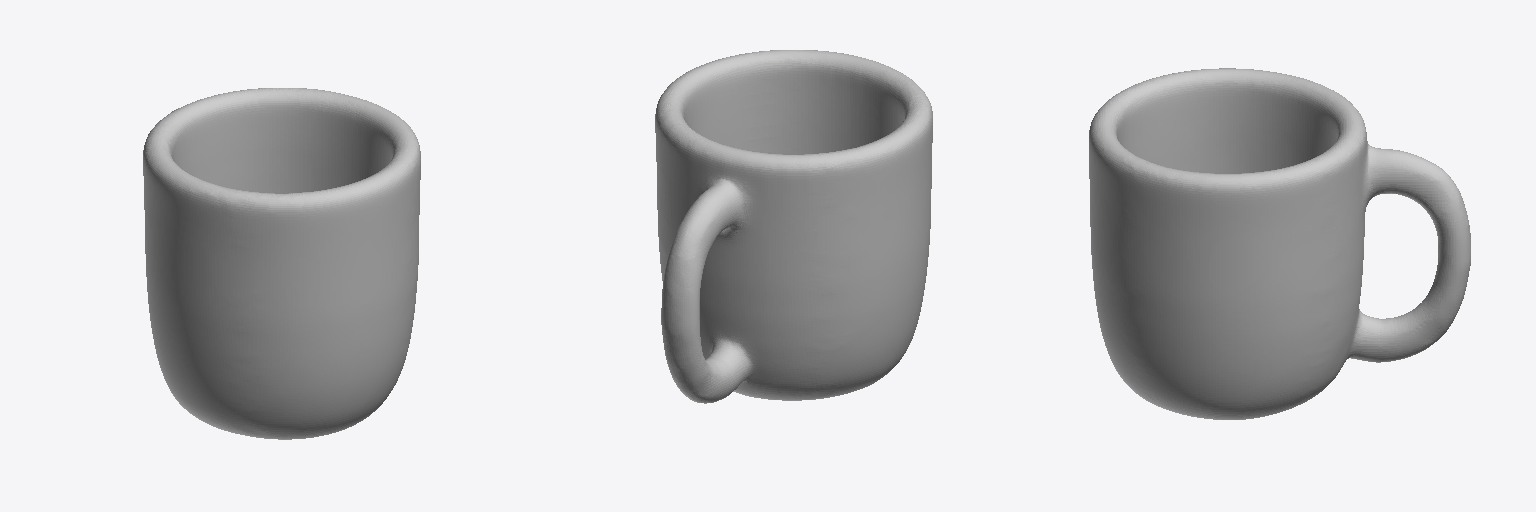
File: CupsyCupZOBJ.obj
3 renders of one model, left to right at view 1: azimuth 30°, elevation 25°; view 2: azimuth 150°, elevation 25°; view 3: azimuth 270°, elevation 25°, orthographic.
Visible parts, largest first — view 1: Group47208; view 2: Group47208, Group46680; view 3: Group47208, Group46680.
Boxes of the visible parts, x1=… form: Group47208: x1=143, y1=88, x2=420, y2=439; Group47208: x1=655, y1=50, x2=932, y2=400; Group46680: x1=661, y1=169, x2=760, y2=403; Group47208: x1=1089, y1=68, x2=1372, y2=419; Group46680: x1=1345, y1=142, x2=1470, y2=362.
Bounding box in the file's own units: 7.12 × 7.56 × 9.81.